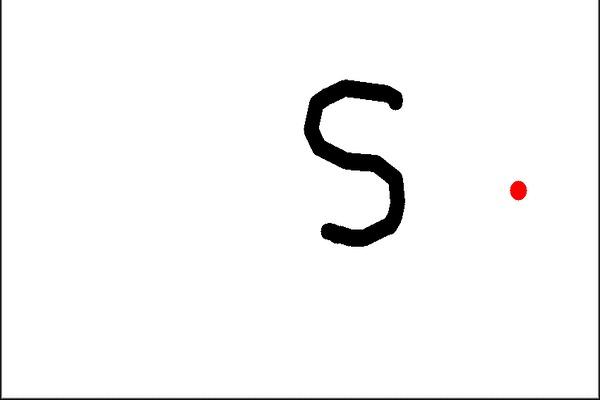S: (296, 73, 411, 248)
